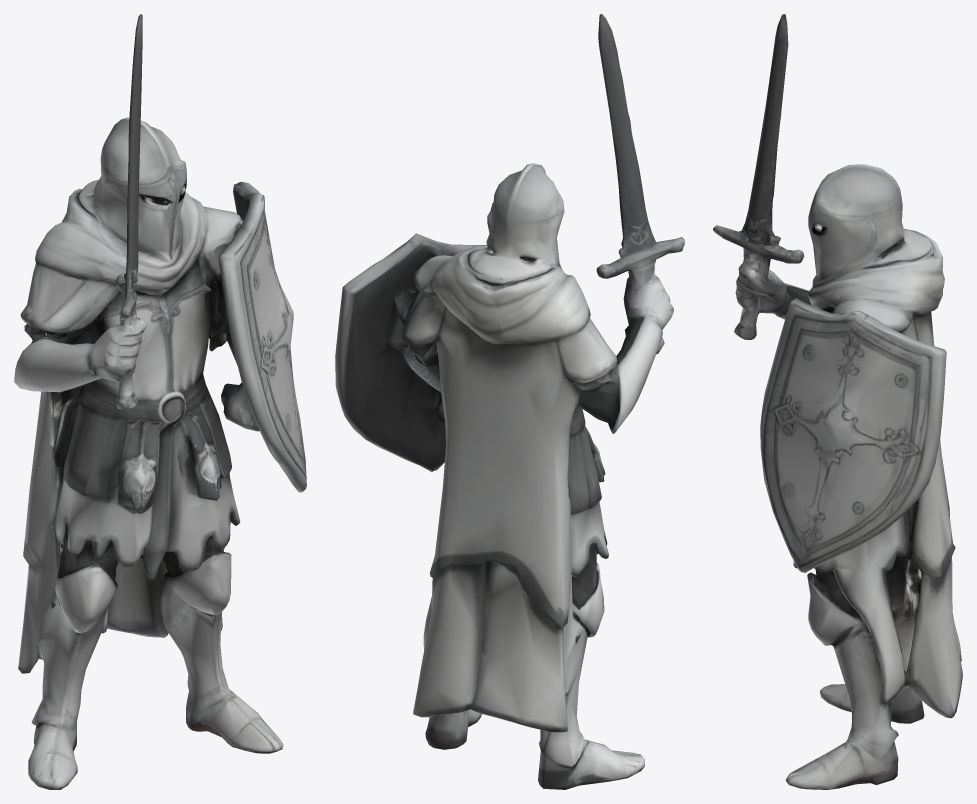
Rendered from Pawn.fbx.
The picture shows the model from 3 angles, left to right: view 1: azimuth 30°, elevation 25°; view 2: azimuth 150°, elevation 25°; view 3: azimuth 270°, elevation 25°; orthographic projection. The views are drawn at different scales.
Parts seen in each view (by area): view 1: Mesh_0; view 2: Mesh_0; view 3: Mesh_0.
Boxes of the visible parts, box(x1,y1,x2,y2) form: Mesh_0: box(14, 14, 306, 789); Mesh_0: box(335, 14, 684, 789); Mesh_0: box(713, 14, 962, 789).
Bounding box in the file's own units: 76.54 × 200 × 63.67.
Materials: 1 (1 with a texture image).
